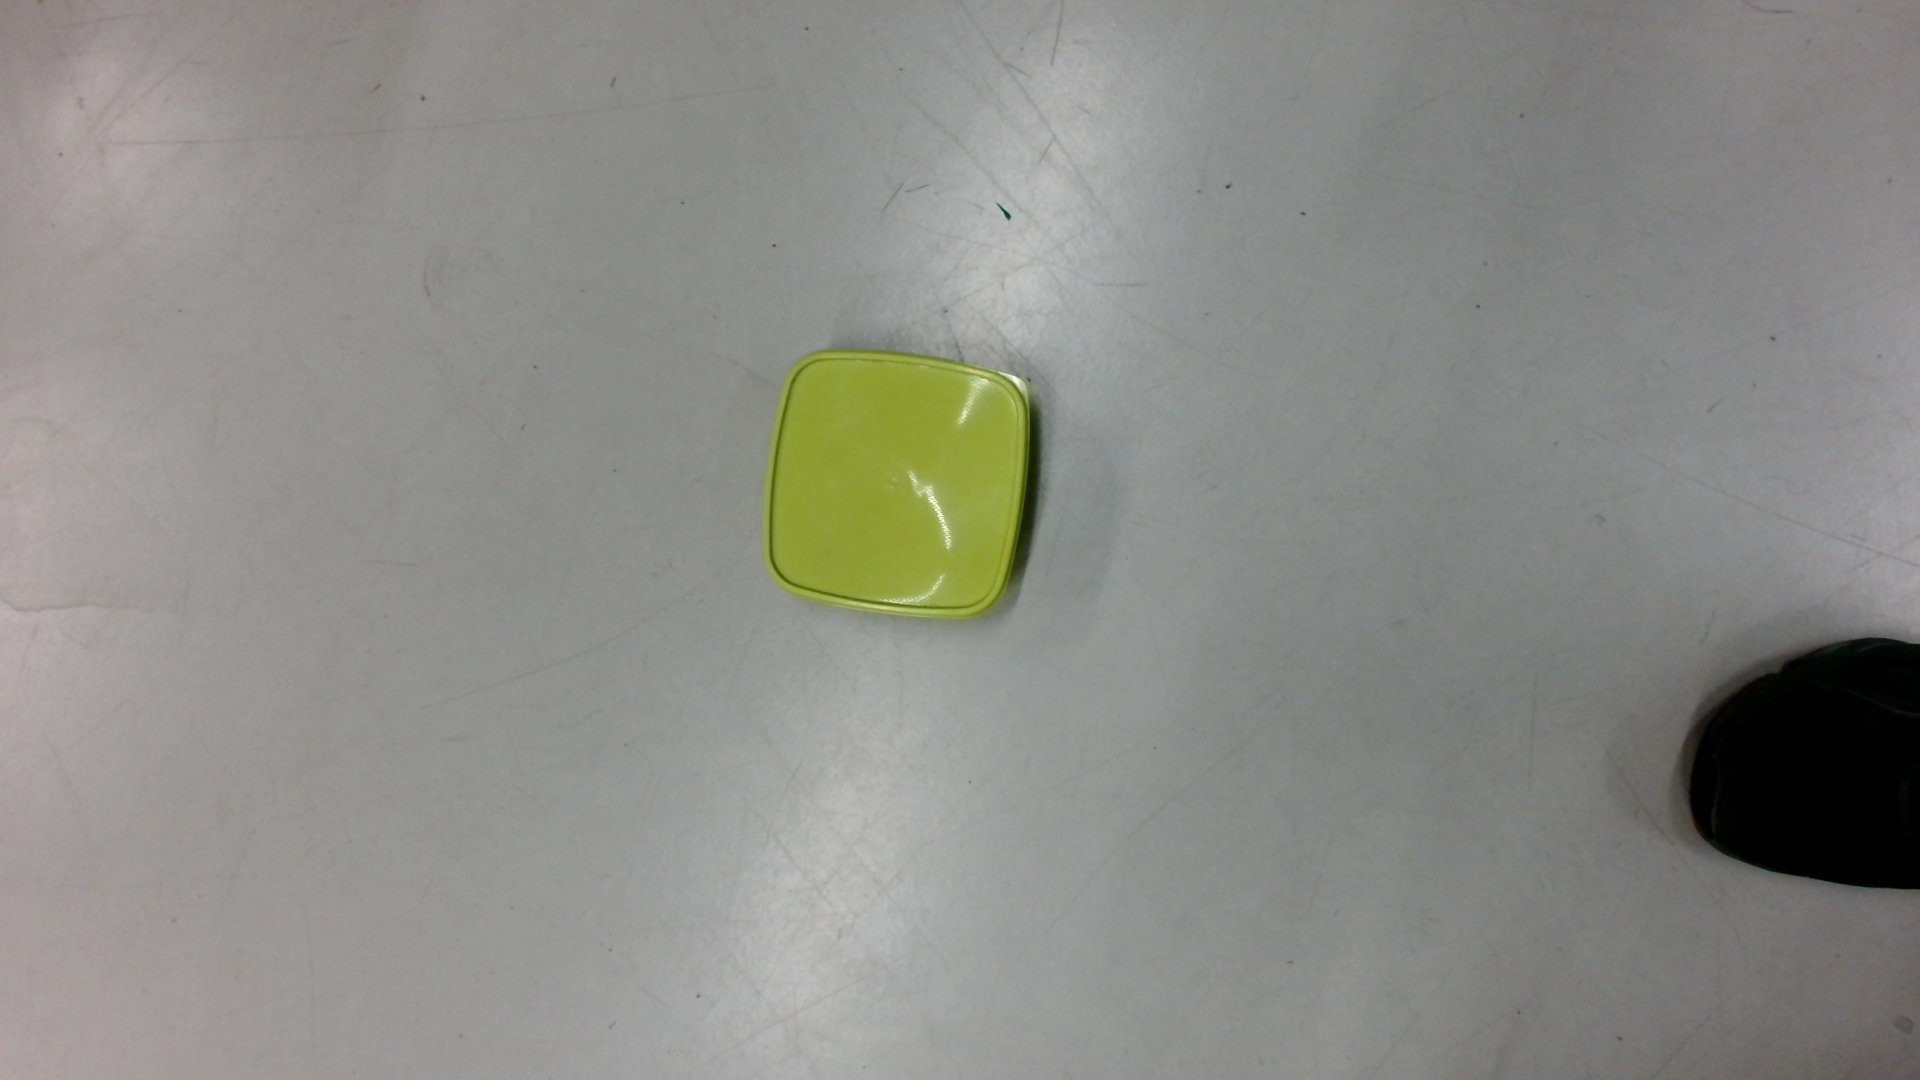Box: (755, 342, 1045, 634)
